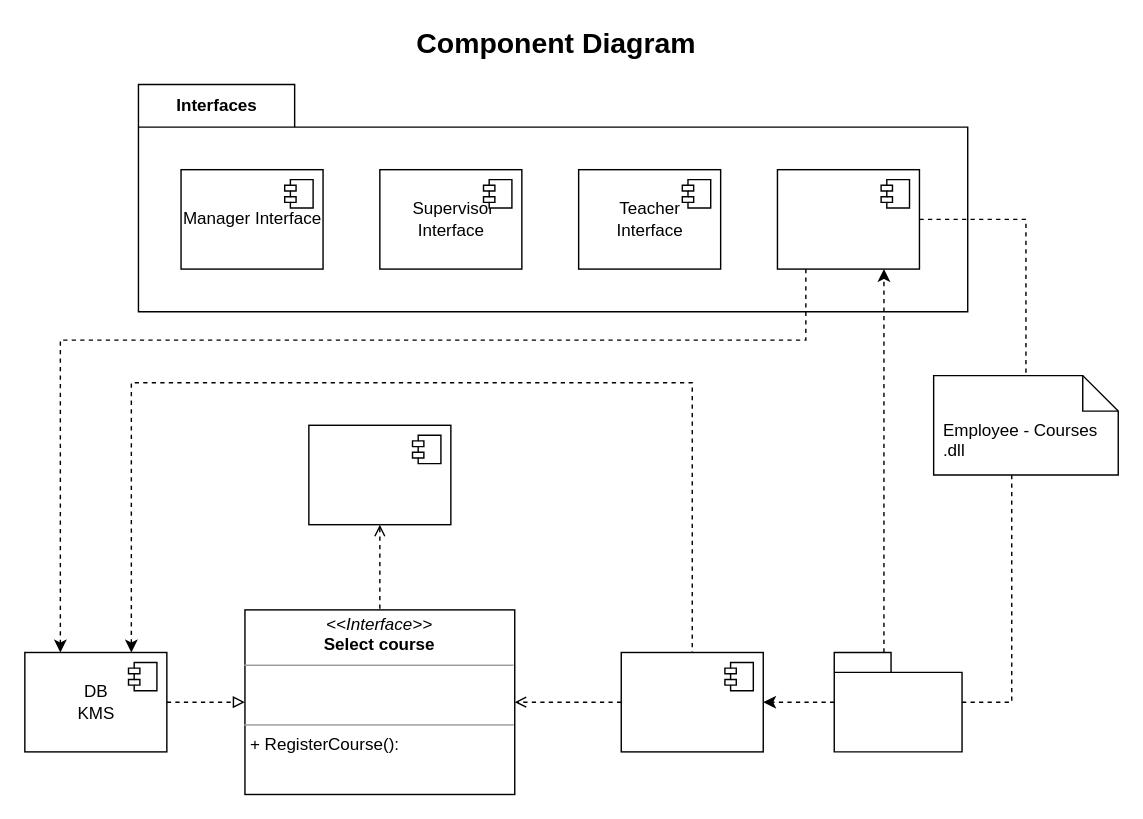
Some shapes in this 1143 by 819 pixel diagram are drawn without their labels. The shapes that lost their labels are listed below. From the top down, each one's centre as x and y in pixels, then its label:
At pixel 847 218: "Employee Interface".
At pixel 379 474: "Search".
At pixel 691 701: "Course".
At pixel 897 701: "Inscription".
